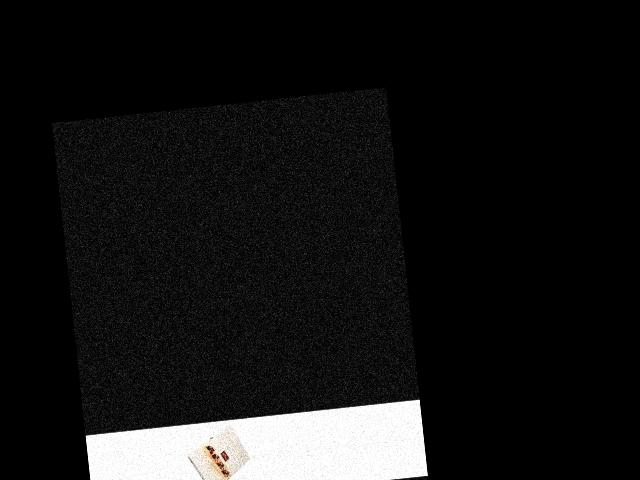chocolate: (183, 423, 252, 480)
